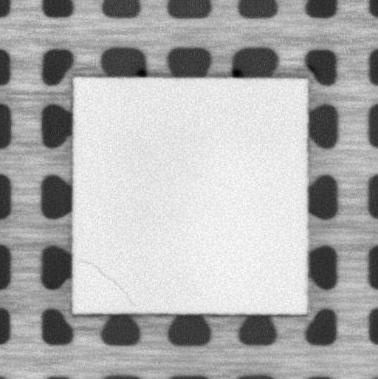DIE_CRACK: (80, 259, 136, 307)
